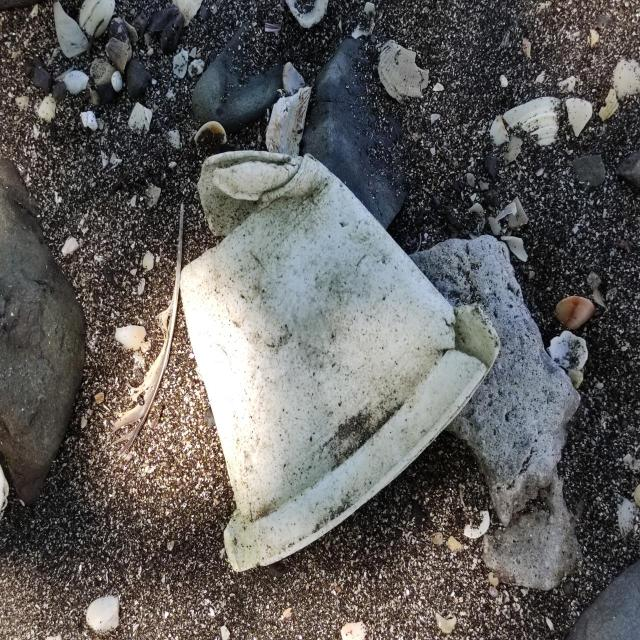styrofoam_waste: (178, 148, 507, 578)
